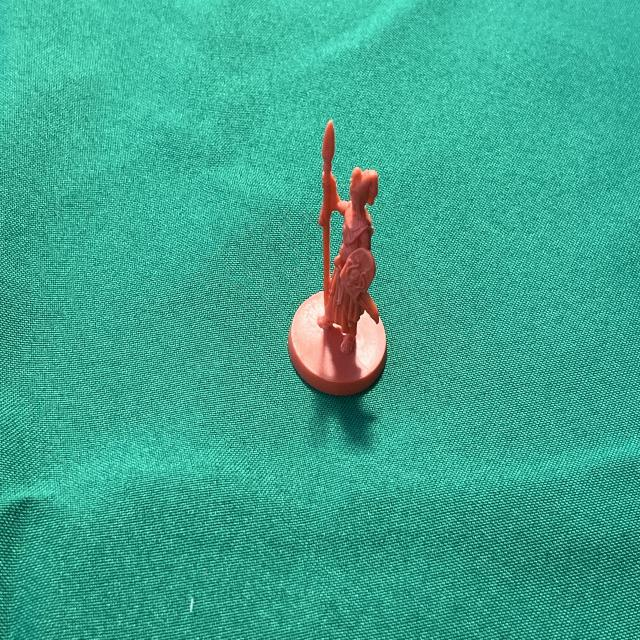amon_follower: (288, 122, 386, 395)
